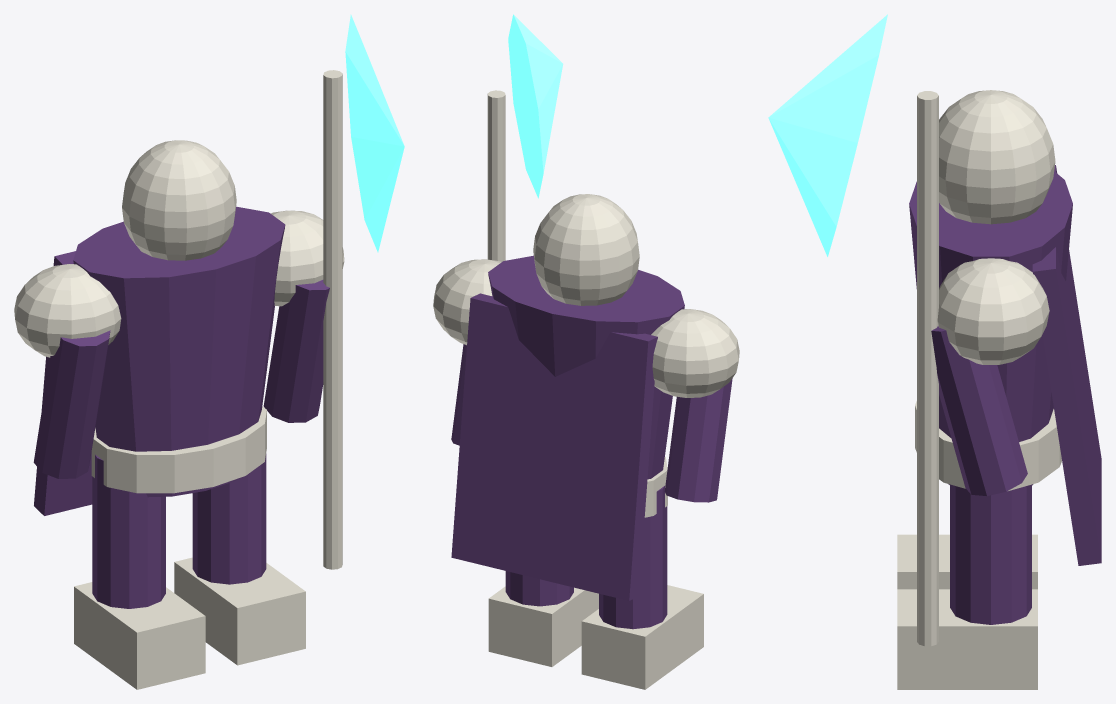
The model's file is hero_necromancer.glb.
3 views of the same model, side by side, from view 1: azimuth 30°, elevation 25°; view 2: azimuth 150°, elevation 25°; view 3: azimuth 270°, elevation 25° (orthographic). The views are drawn at different scales.
Visible parts, largest first — view 1: Cone, Sphere.002, Cylinder.005, Cube, Cube.001, Cylinder, Cylinder.003, Cylinder.001, Cylinder.002, Cone.001, Sphere, Cylinder.004 (+2 smaller); view 2: Cube.002, Cone, Sphere.002, Cube, Sphere, Cube.001, Cylinder.003, Cone.001, Cylinder, Cylinder.005, Sphere.001, Cylinder.001 (+2 smaller); view 3: Sphere.002, Cylinder.005, Cone.001, Cone, Cube.002, Cylinder.001, Cube.001, Sphere.001, Cylinder.004, Cylinder.002, Cube.
Boxes of the visible parts, box(x1,y1,x2,y2) form: Cone: box(73, 206, 285, 497); Sphere.002: box(122, 140, 236, 260); Cylinder.005: box(323, 70, 342, 569); Cube: box(74, 582, 205, 689); Cube.001: box(174, 557, 305, 665); Cylinder: box(92, 454, 165, 608); Cylinder.003: box(33, 330, 110, 478); Cylinder.001: box(192, 454, 266, 584); Cylinder.002: box(91, 406, 266, 493); Cone.001: box(345, 14, 404, 252); Sphere: box(14, 264, 121, 357); Cylinder.004: box(263, 280, 329, 422); Cube.002: box(451, 293, 657, 600); Cone: box(488, 255, 684, 479); Sphere.002: box(533, 194, 639, 305); Cube: box(581, 585, 703, 689); Sphere: box(651, 309, 739, 397); Cube.001: box(488, 586, 598, 666); Cylinder.003: box(664, 378, 732, 502); Cone.001: box(508, 14, 563, 198); Cylinder: box(599, 486, 667, 629); Cylinder.005: box(487, 90, 505, 261); Sphere.001: box(433, 259, 501, 345); Cylinder.001: box(505, 571, 573, 606); Sphere.002: box(939, 90, 1055, 224); Cylinder.005: box(917, 91, 938, 646); Cone.001: box(768, 14, 887, 256); Cone: box(909, 171, 1072, 485); Cube.002: box(1032, 165, 1101, 565); Cylinder.001: box(950, 484, 1031, 624); Cube.001: box(897, 589, 1037, 689); Sphere.001: box(937, 258, 1049, 364); Cylinder.004: box(931, 326, 1027, 495); Cylinder.002: box(915, 401, 1061, 491); Cube: box(897, 534, 1037, 589).
Bounding box in the file's own units: 1.42 × 2.68 × 1.16.
